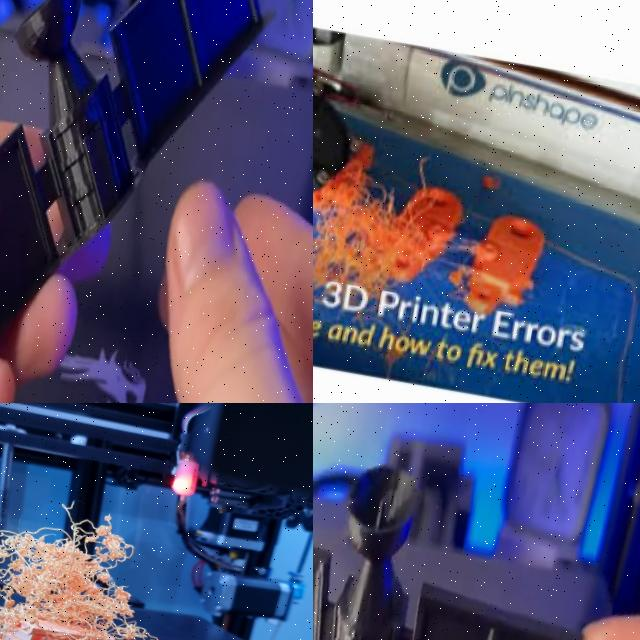spaghetti: (313, 80, 590, 331), (0, 501, 223, 640)
